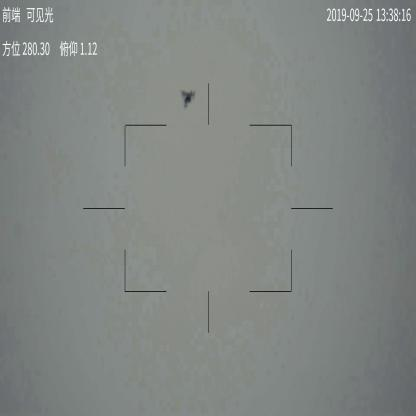uav: (180, 88, 196, 110)
